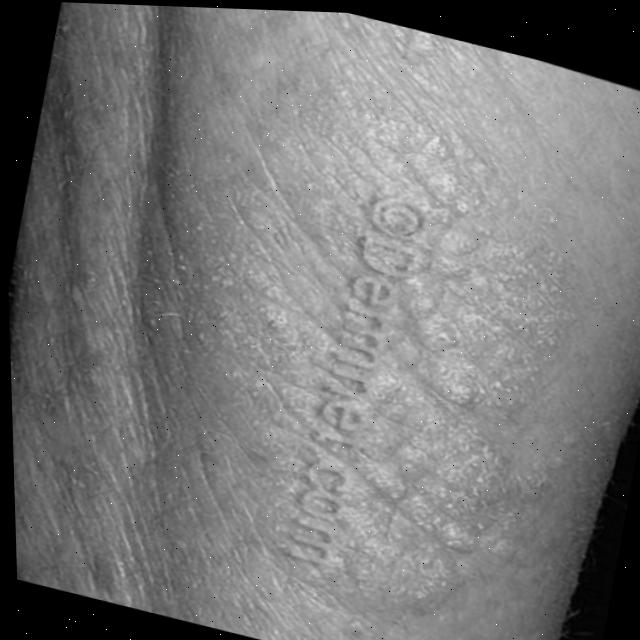Eczema: (158, 123, 584, 622)
